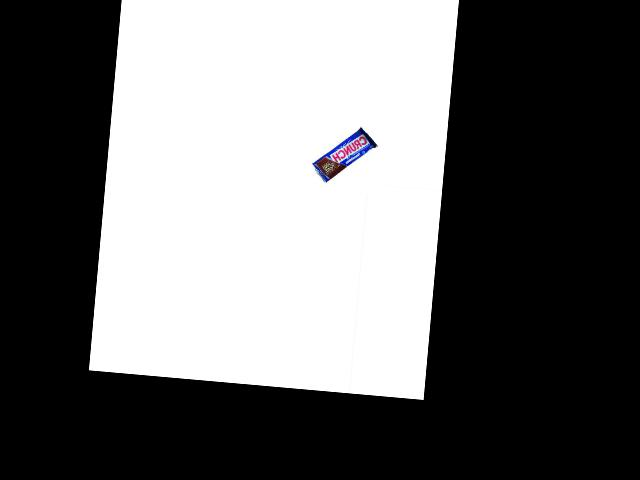chocolate: (309, 122, 380, 188)
